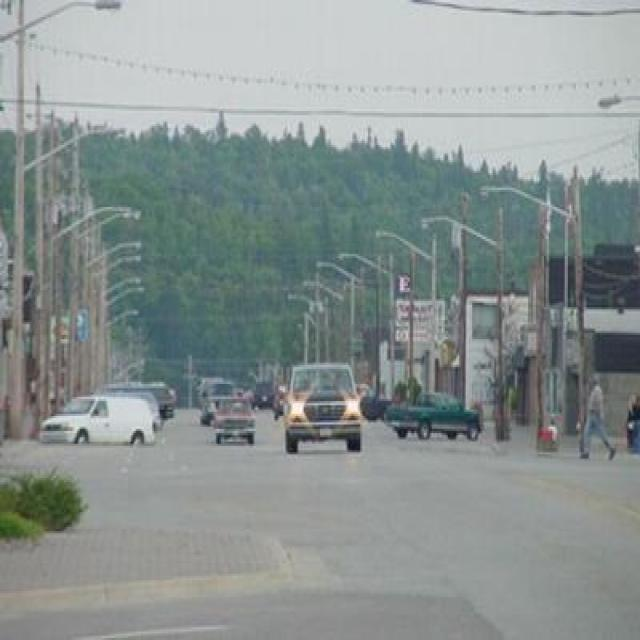light_vehicle: (282, 358, 363, 454), (38, 390, 158, 444), (378, 388, 484, 442), (90, 382, 176, 431), (208, 392, 258, 443), (200, 380, 240, 424)
